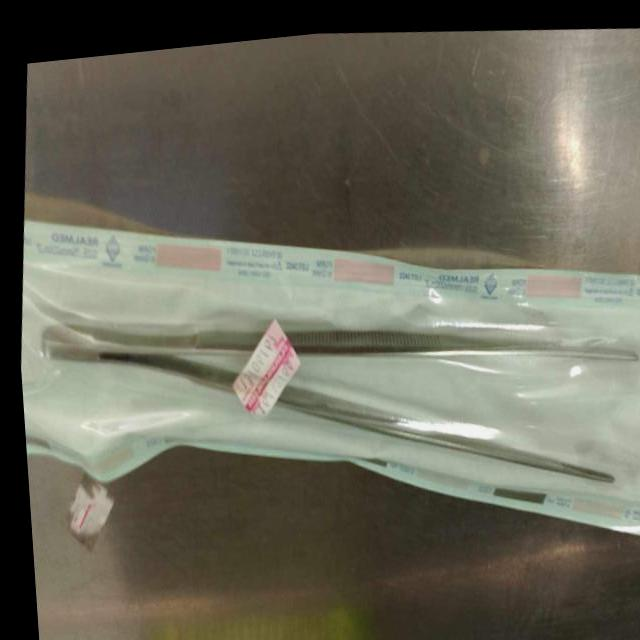Infectious: (22, 197, 640, 548)
Sharps: (39, 321, 620, 484)
